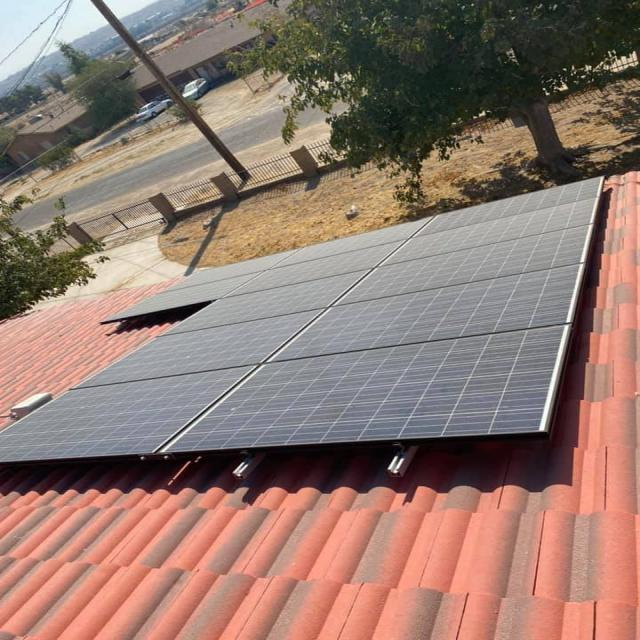dust-solar-panel: (0, 174, 604, 471)
